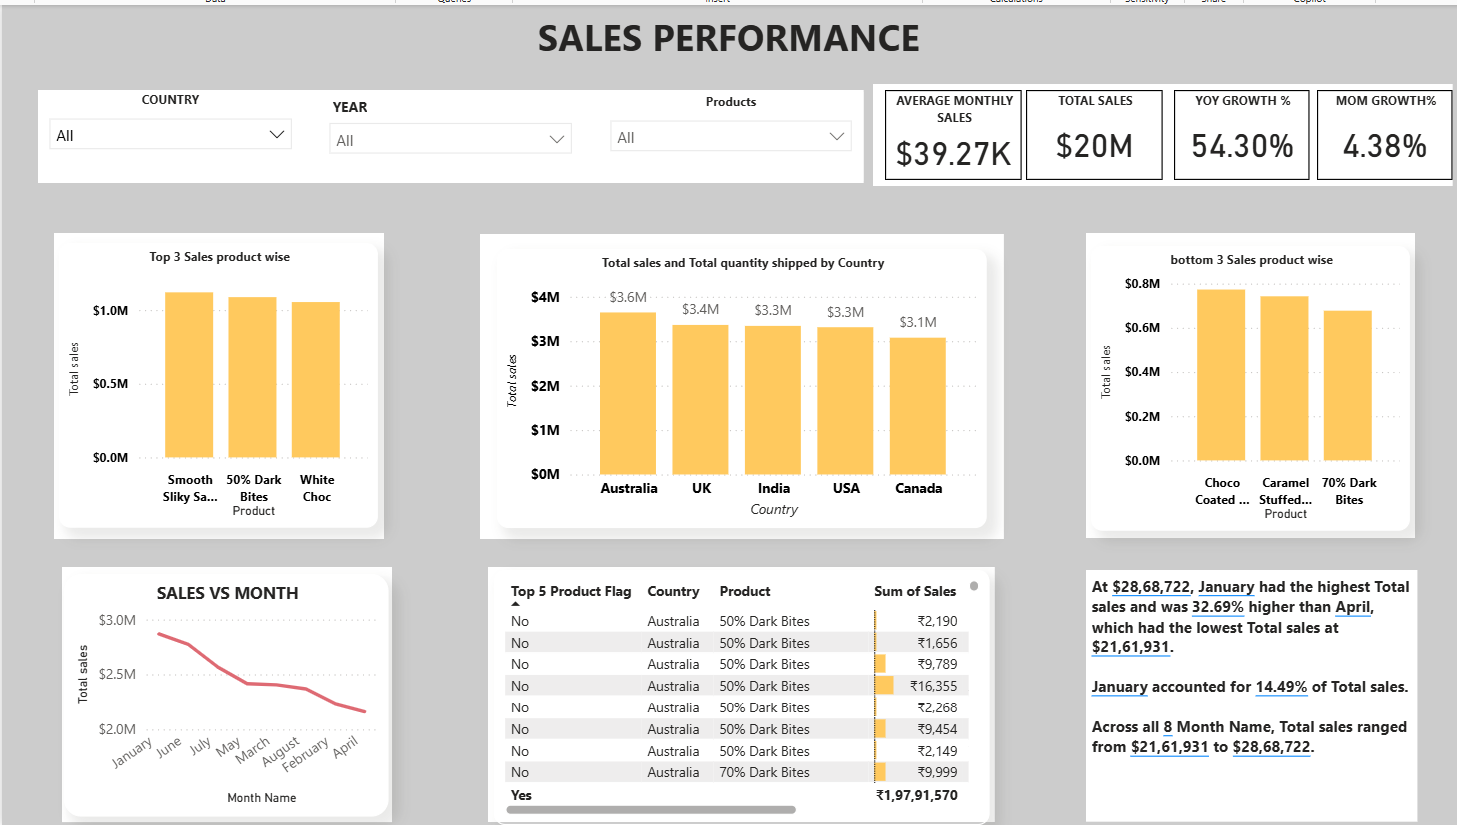

The page's visual inventory and layout, read from the dashboard file:
{"tool":"powerbi","page":{"name":"Page 1","canvas":[1280,720],"ordinal":0},"visuals":[{"type":"shape","box":[31.6,74.6,725.3,81.7],"z":0},{"type":"shape","box":[426.7,493.5,445.2,223.9],"z":1000},{"type":"shape","box":[52.7,493.5,289.8,224],"z":2000},{"type":"shape","box":[951.8,200.2,288.9,267.8],"z":3000},{"type":"shape","box":[419.7,201.1,460.1,267.8],"z":4000},{"type":"shape","box":[764.8,69.4,509.3,89.6],"z":5000},{"type":"shape","box":[45.7,200.2,289.8,268.7],"z":6000},{"type":"card","title":"AVERAGE MONTHLY SALES ","fields":{"Values":["ALL MEASURE.Average sales"]},"box":[775.3,74.6,120.3,79],"z":7000},{"type":"card","title":"TOTAL SALES","fields":{"Values":["ALL MEASURE.Total sales"]},"box":[899.1,74.6,120.3,79],"z":8000},{"type":"card","title":"YOY GROWTH %","fields":{"Values":["ALL MEASURE.YoY Sales Growth %"]},"box":[1029.1,74.6,119.4,79],"z":9000},{"type":"card","title":"MOM GROWTH%","fields":{"Values":["ALL MEASURE.MOM GROWTH %"]},"box":[1154.6,74.6,119.4,79],"z":10000},{"type":"textbox","box":[0,0,1280,69.7],"z":11000},{"type":"slicer","title":"COUNTRY","fields":{"Values":["Chocolate Sales.Country"]},"box":[31.6,74.6,232.7,79],"z":12000},{"type":"slicer","title":"Products","fields":{"Values":["Chocolate Sales.Product"]},"box":[524.2,76.4,231.8,78.1],"z":13000},{"type":"clusteredColumnChart","fields":{"Category":["Chocolate Sales.Country"],"Y":["ALL MEASURE.Total sales"]},"box":[434.6,214.2,430.2,245],"z":14000},{"type":"columnChart","title":"Top 3 Sales product wise","fields":{"Category":["Chocolate Sales.Product"],"Y":["ALL MEASURE.Total sales"]},"box":[50,209,280.1,250.2],"z":15000},{"type":"tableEx","fields":{"Values":["ALL MEASURE.Top 5 Product Flag","Chocolate Sales.Country","Chocolate Sales.Product","Sum(Chocolate Sales.Sales)","Chocolate Sales.Sales Person","ALL MEASURE.YoY Sales Growth %"]},"box":[432,496.1,434.6,223.9],"z":16000},{"type":"slicer","fields":{"Values":["Calendar.Year"]},"box":[277.5,75.5,232.7,78.1],"z":17000},{"type":"lineChart","title":"SALES VS MONTH","fields":{"Y":["ALL MEASURE.Total sales"],"Category":["Calendar.Month Name"]},"box":[54.4,499.6,285.4,213.4],"z":18000},{"type":"clusteredColumnChart","title":"bottom 3 Sales product wise","fields":{"Category":["Chocolate Sales.Product"],"Y":["ALL MEASURE.Total sales"]},"box":[956.2,211.6,280.1,250.2],"z":19000},{"type":"textbox","box":[951.8,496.1,290.6,221.3],"z":19001}]}

Visuals, with their boxes on the page's 1280x720 design canvas (x1, y1, x2, y2). These are canvas units, not pixel positions in the 1457x825 screenshot, which may show the page scaled, cropped or inside an application window:
shape: BBox(32, 75, 757, 156)
shape: BBox(427, 494, 872, 717)
shape: BBox(53, 494, 342, 718)
shape: BBox(952, 200, 1241, 468)
shape: BBox(420, 201, 880, 469)
shape: BBox(765, 69, 1274, 159)
shape: BBox(46, 200, 336, 469)
"AVERAGE MONTHLY SALES " card: BBox(775, 75, 896, 154)
"TOTAL SALES" card: BBox(899, 75, 1019, 154)
"YOY GROWTH %" card: BBox(1029, 75, 1148, 154)
"MOM GROWTH%" card: BBox(1155, 75, 1274, 154)
textbox: BBox(0, 0, 1280, 70)
"COUNTRY" slicer: BBox(32, 75, 264, 154)
"Products" slicer: BBox(524, 76, 756, 154)
clusteredColumnChart - Chocolate Sales.Country x ALL MEASURE.Total sales: BBox(435, 214, 865, 459)
"Top 3 Sales product wise" columnChart: BBox(50, 209, 330, 459)
tableEx - ALL MEASURE.Top 5 Product Flag x Chocolate Sales.Country: BBox(432, 496, 867, 720)
slicer - Calendar.Year: BBox(278, 76, 510, 154)
"SALES VS MONTH" lineChart: BBox(54, 500, 340, 713)
"bottom 3 Sales product wise" clusteredColumnChart: BBox(956, 212, 1236, 462)
textbox: BBox(952, 496, 1242, 717)
